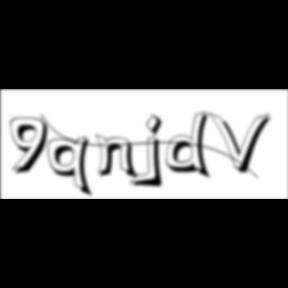9: (10, 117, 55, 177)
V: (208, 110, 274, 176)
d: (166, 110, 216, 182)
j: (144, 113, 170, 191)
n: (96, 132, 142, 181)
q: (48, 135, 97, 200)
